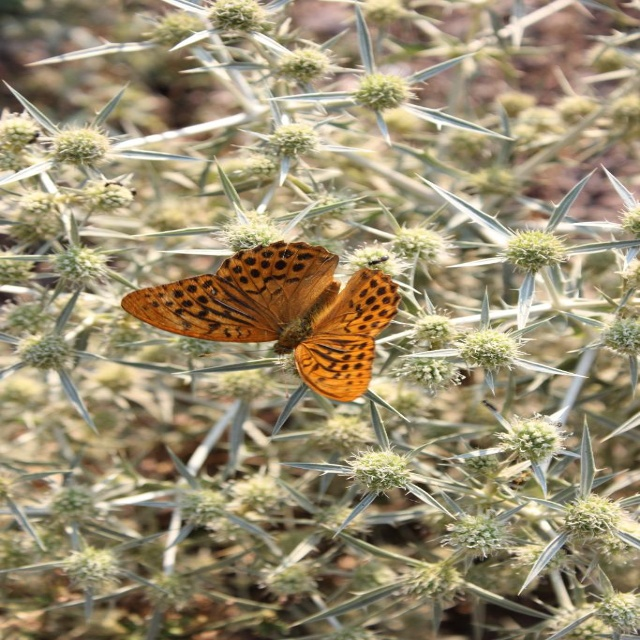Butterfly: (128, 222, 406, 406)
